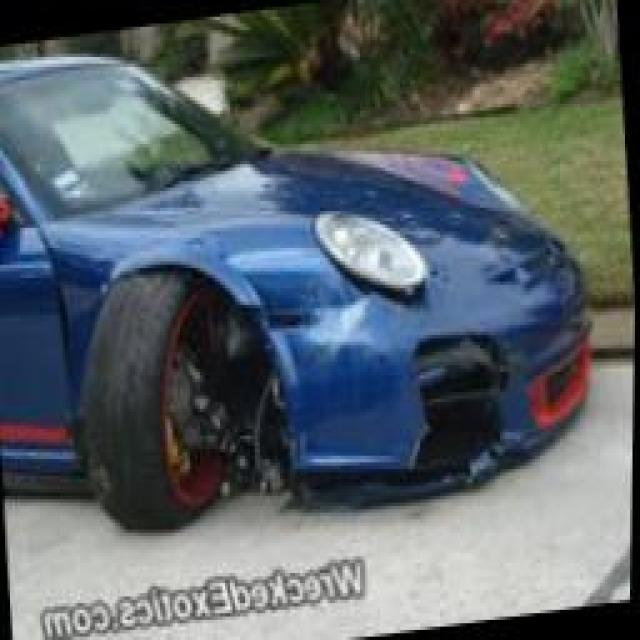Bonnet: (228, 218, 356, 318)
Bumper: (258, 275, 558, 516)
Fender: (28, 231, 115, 399)
